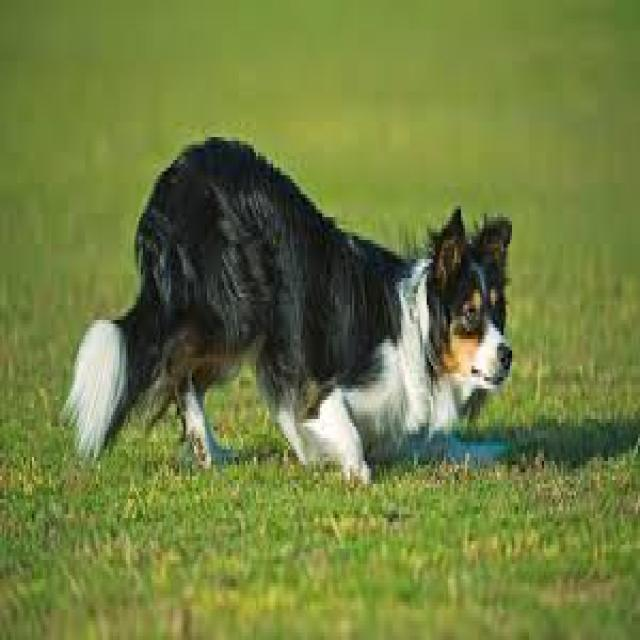ALASKAN_MALAMUTE: (55, 127, 536, 513)
